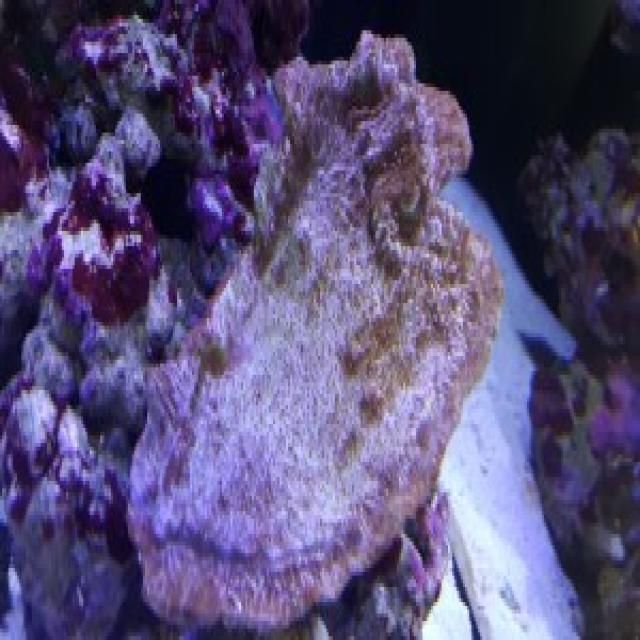Bleached: (1, 234, 290, 609), (297, 67, 501, 551)
Healthy: (514, 147, 640, 332), (528, 368, 640, 506)
